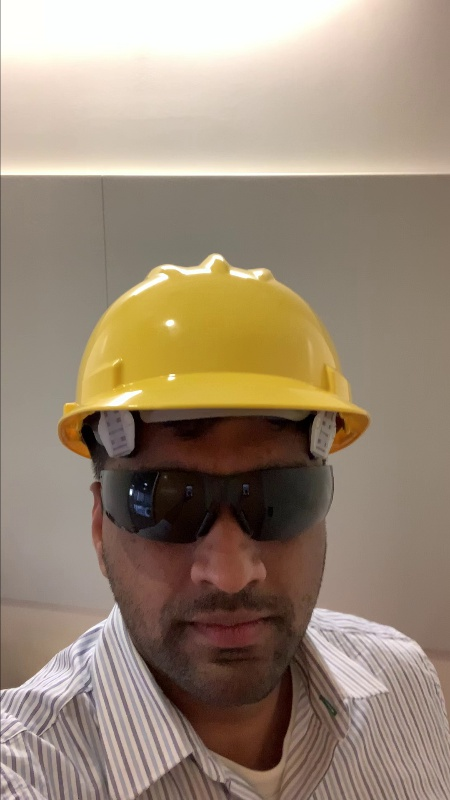glasses: (88, 451, 350, 547)
helmet: (51, 248, 372, 455)
